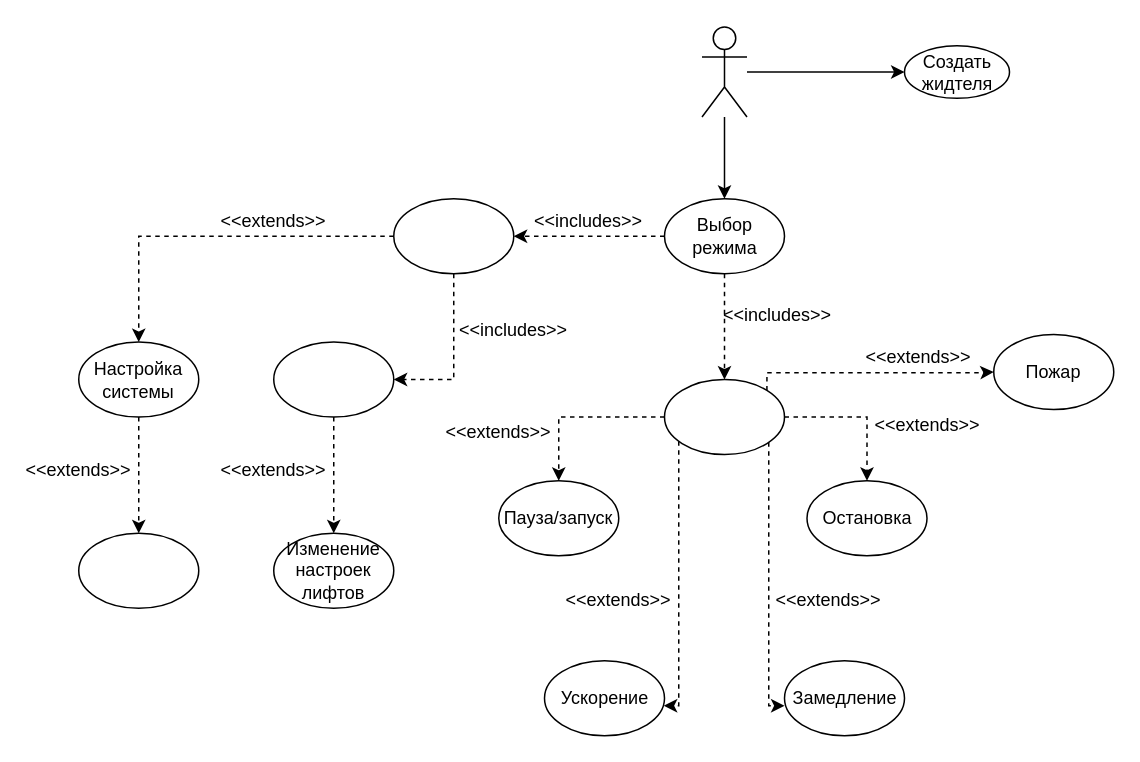
The diagram is 1140 pixels wide and 762 high, and some of its shapes have lost their labels. Each missing label, with the centre of its shape:
Lvl.35 Boss: (x=723, y=71)
Ввод данных: (x=453, y=235)
Изменение настроек системы: (x=138, y=570)
Настройка лифтов: (x=333, y=378)
Старт: (x=723, y=416)
